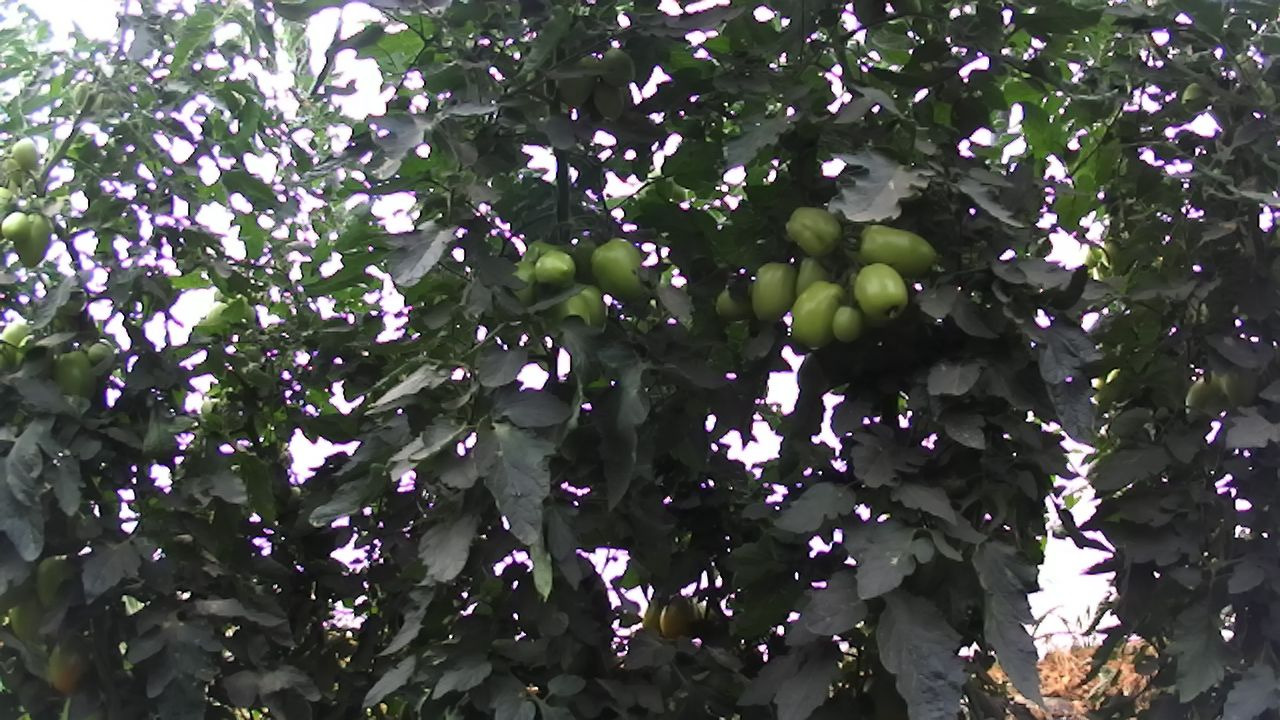tomato: (853, 218, 942, 278), (786, 278, 849, 351), (590, 234, 648, 300), (782, 203, 847, 259), (748, 259, 802, 324), (855, 260, 910, 323), (48, 348, 104, 406), (9, 208, 55, 274), (532, 249, 579, 290), (831, 300, 865, 345), (0, 206, 32, 246)
